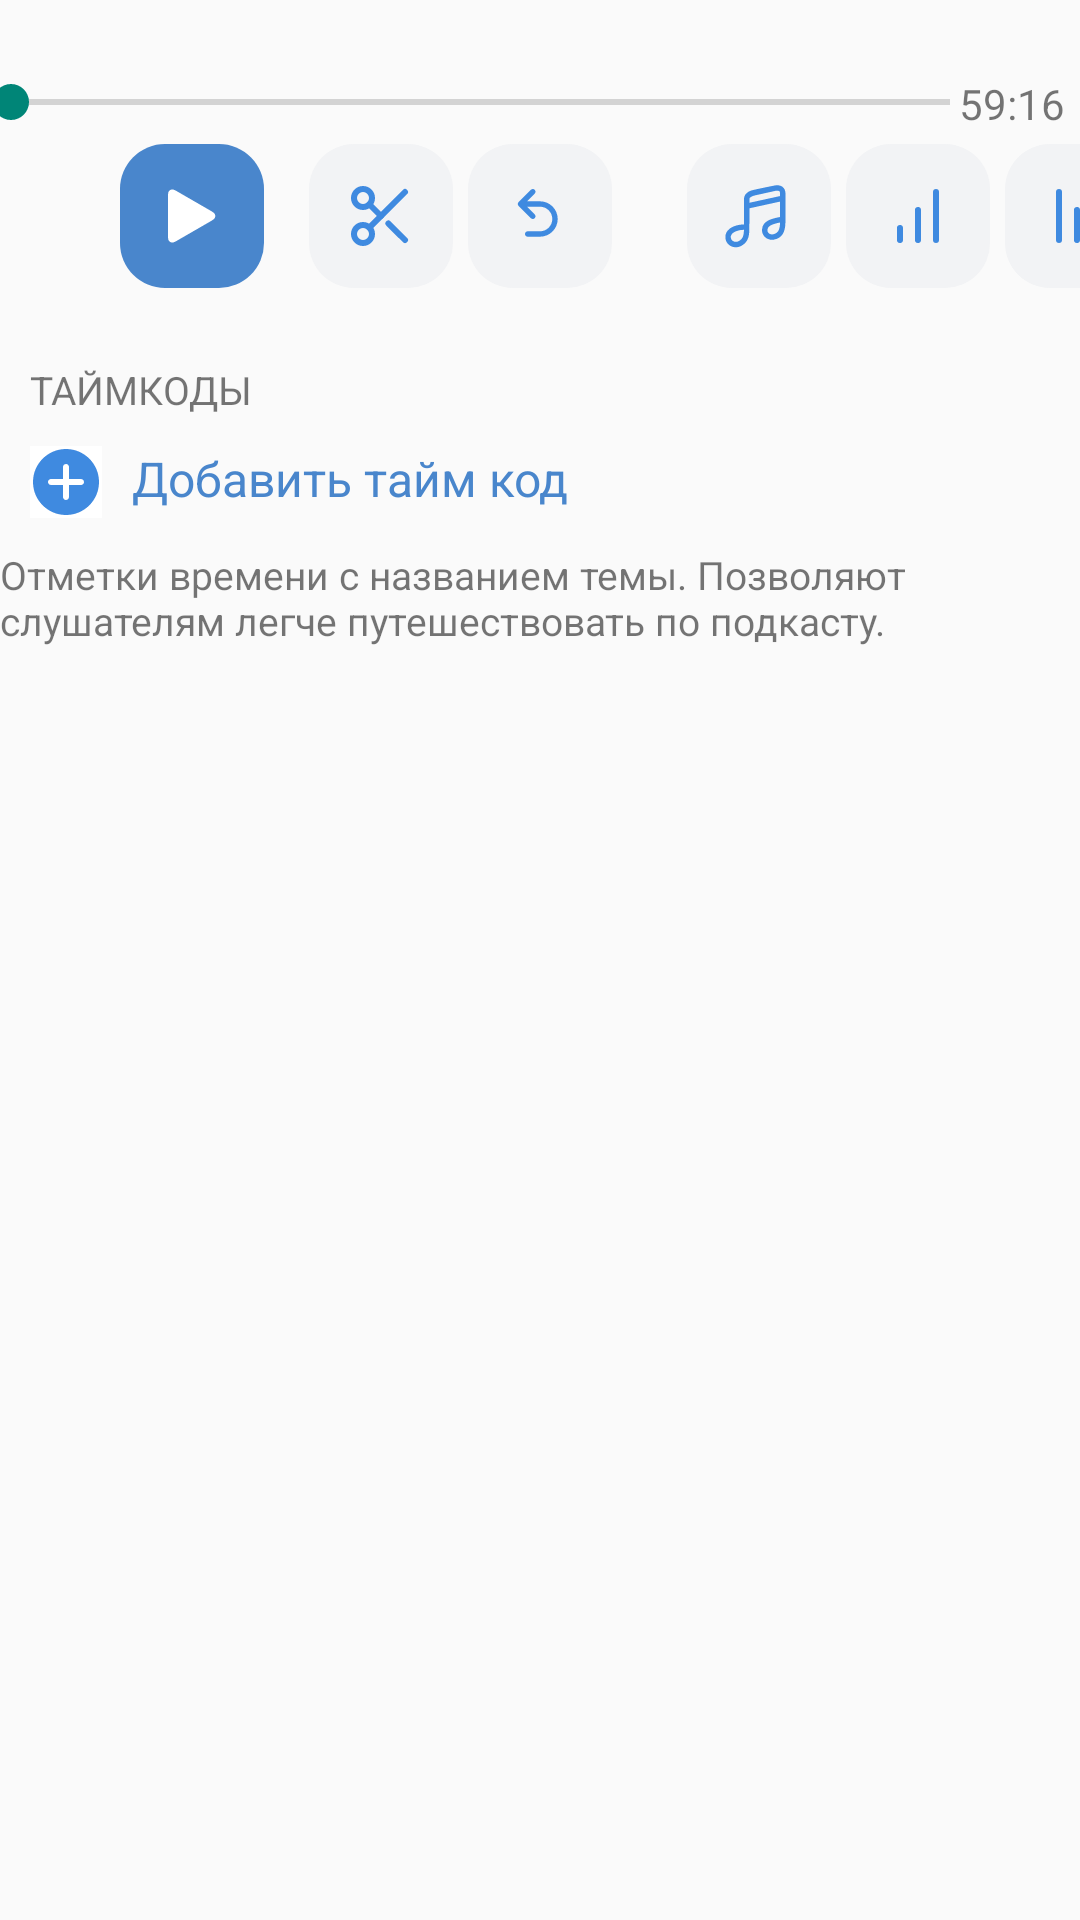

Screen size 1080w x 1920h. Icon name, then its center in pixels as (x,y):
add circle: (66,482)
bar chart: (918,216)
music: (755,216)
play: (192,216)
scissors: (379,216)
